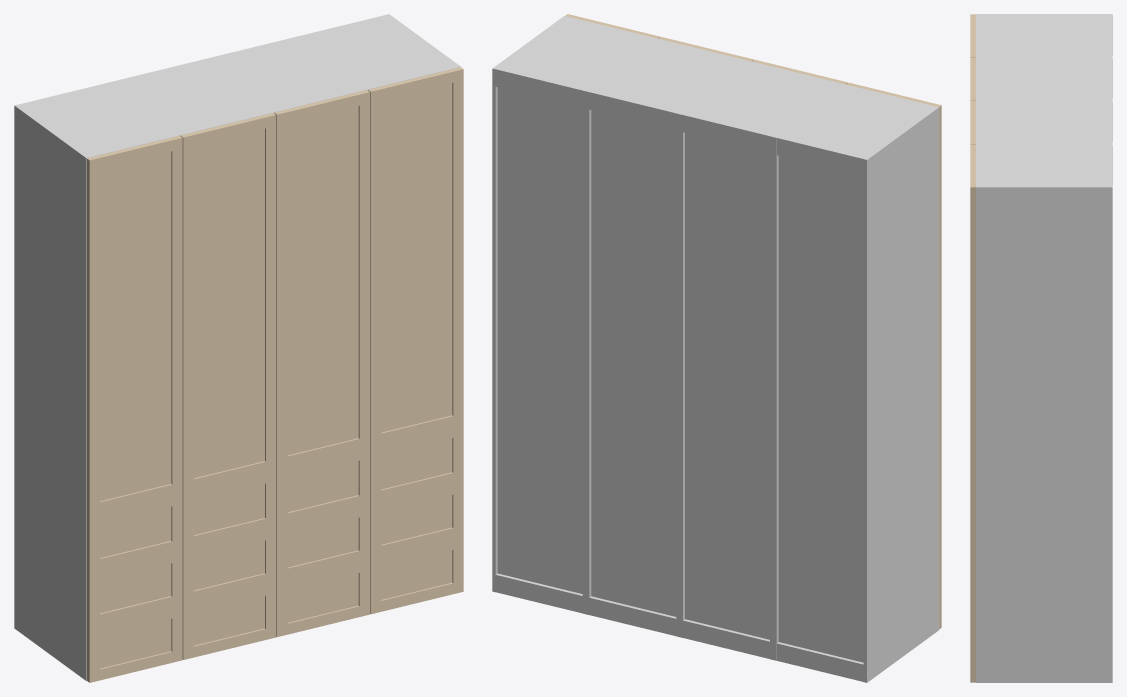
File: Sarita_Avian.glb
3 views of the same model, side by side, from view 1: azimuth 30°, elevation 25°; view 2: azimuth 150°, elevation 25°; view 3: azimuth 270°, elevation 25° (orthographic). The views are drawn at different scales.
Parts seen in each view (by area): view 1: Mixed_005_mesh_000, Mixed_005_mesh_039, Mixed_004_mesh_039, Mixed_003_mesh_039, Mixed_002_mesh_039, Mixed_003_mesh_007, Mixed_004_mesh_007, Mixed_002_mesh_007, Mixed_005_mesh_007, Mixed_003_mesh_042, Mixed_002_mesh_042, Mixed_004_mesh_042 (+53 smaller); view 2: Mixed_003_mesh_006, Mixed_004_mesh_006, Mixed_005_mesh_006, Mixed_002_mesh_006, Mixed_005_mesh_000, Mixed_005_mesh_007, Mixed_002_mesh_007, Mixed_004_mesh_007, Mixed_003_mesh_007, Mixed_002_mesh_001, Mixed_004_mesh_001, Mixed_005_mesh_001 (+18 smaller); view 3: Mixed_004_mesh_001, Mixed_005_mesh_007, Mixed_004_mesh_007, Mixed_003_mesh_007, Mixed_002_mesh_007, Mixed_004_mesh_039, Mixed_004_mesh_043, Mixed_004_mesh_003, Mixed_005_mesh_003, Mixed_003_mesh_003, Mixed_002_mesh_003, Mixed_003_mesh_000 (+6 smaller).
Part boxes in pixels (x1,y1,x2,y2): Mixed_005_mesh_000: (14,104,89,680); Mixed_005_mesh_039: (87,135,180,514); Mixed_004_mesh_039: (368,67,462,432); Mixed_003_mesh_039: (274,90,368,455); Mixed_002_mesh_039: (180,113,274,478); Mixed_003_mesh_007: (208,39,362,111); Mixed_004_mesh_007: (301,16,456,88); Mixed_002_mesh_007: (114,62,268,133); Mixed_005_mesh_007: (20,85,175,156); Mixed_003_mesh_042: (276,123,287,458); Mixed_002_mesh_042: (182,146,193,481); Mixed_004_mesh_042: (370,100,381,435); Mixed_003_mesh_006: (591,90,678,616); Mixed_004_mesh_006: (497,67,584,593); Mixed_005_mesh_006: (778,136,865,662); Mixed_002_mesh_006: (685,113,772,639); Mixed_005_mesh_000: (863,106,939,682); Mixed_005_mesh_007: (779,86,935,157); Mixed_002_mesh_007: (686,62,840,134); Mixed_004_mesh_007: (498,17,653,88); Mixed_003_mesh_007: (592,40,747,111); Mixed_002_mesh_001: (679,61,754,637); Mixed_004_mesh_001: (492,16,567,592); Mixed_005_mesh_001: (773,84,848,660); Mixed_004_mesh_001: (976,185,1112,682); Mixed_005_mesh_007: (976,15,1107,55); Mixed_004_mesh_007: (976,145,1107,185); Mixed_003_mesh_007: (976,102,1107,142); Mixed_002_mesh_007: (976,59,1107,98); Mixed_004_mesh_039: (972,144,975,523); Mixed_004_mesh_043: (970,197,972,513); Mixed_004_mesh_003: (976,145,993,185); Mixed_005_mesh_003: (976,15,993,55); Mixed_003_mesh_003: (976,102,993,142); Mixed_002_mesh_003: (976,59,993,98); Mixed_003_mesh_000: (976,100,1112,141).
Bounding box in the file's own units: 1.8 × 2.4 × 0.624.
